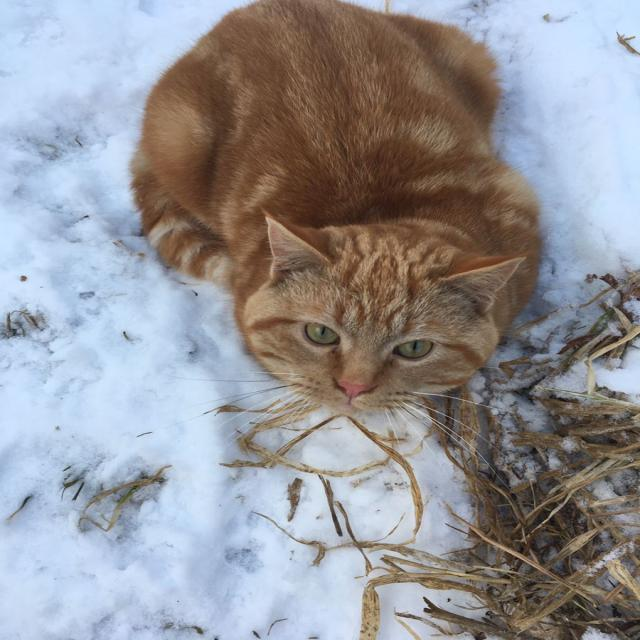sarman: (131, 0, 540, 410)
